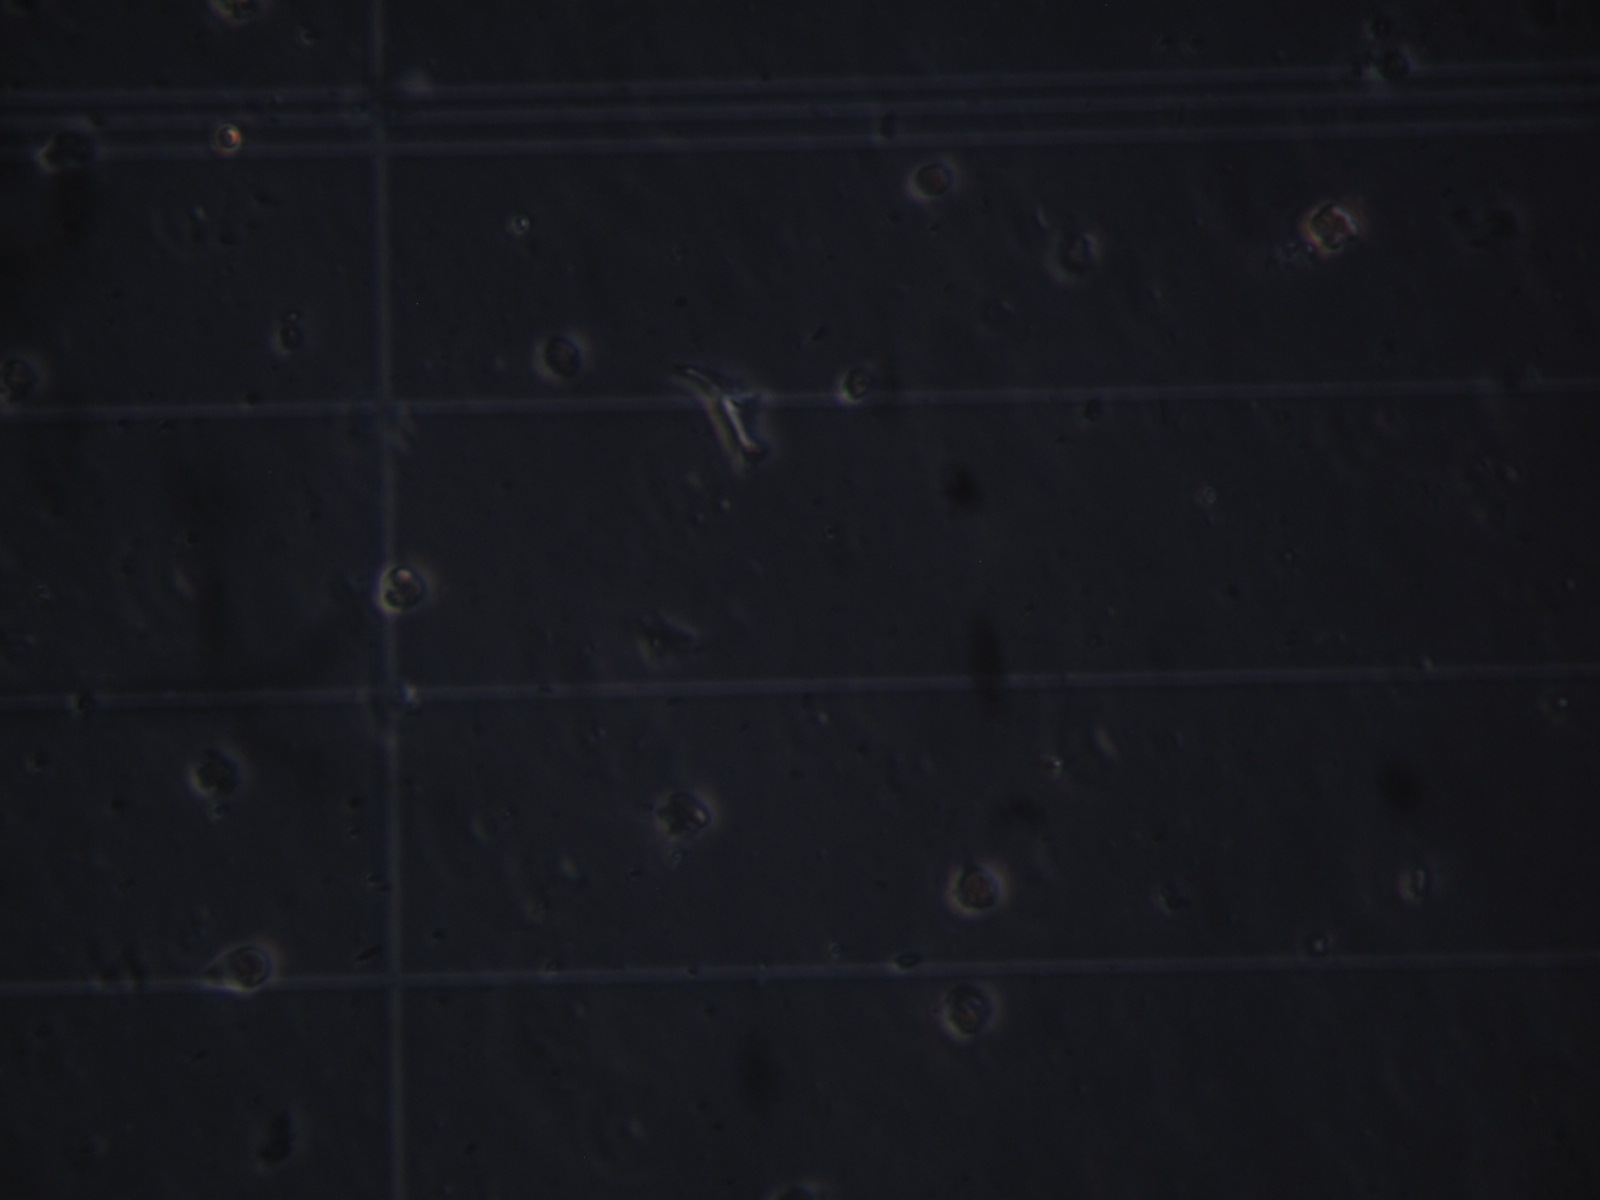hemo: (944, 977, 1003, 1037), (218, 938, 281, 993), (530, 326, 590, 383), (952, 858, 1009, 914), (1046, 228, 1107, 279), (377, 560, 433, 614), (1305, 200, 1361, 252), (908, 153, 963, 200), (837, 361, 876, 405)
